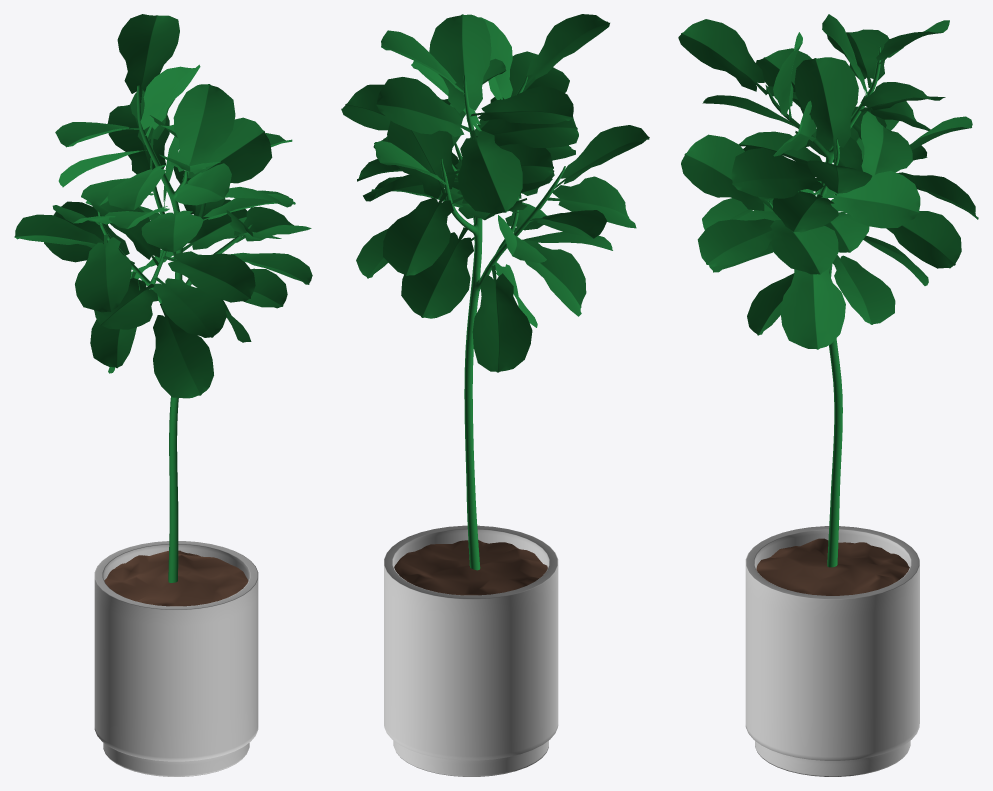
File: Maceta.obj
The picture shows the model from 3 angles, left to right: view 1: azimuth 30°, elevation 25°; view 2: azimuth 150°, elevation 25°; view 3: azimuth 270°, elevation 25°; orthographic projection. The views are drawn at different scales.
Visible parts, largest first — view 1: Maceta; view 2: Maceta; view 3: Maceta.
Boxes of the visible parts, bbox=[...] form: Maceta: bbox=[14, 14, 312, 776]; Maceta: bbox=[341, 14, 649, 776]; Maceta: bbox=[678, 14, 978, 776].
Size of the model in its own units: 2 by 5.11 by 1.9.
Materials: 3 (3 with a texture image).
